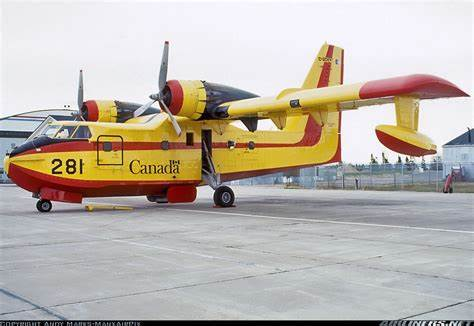Aeronef_de_service: (1, 36, 471, 218)
